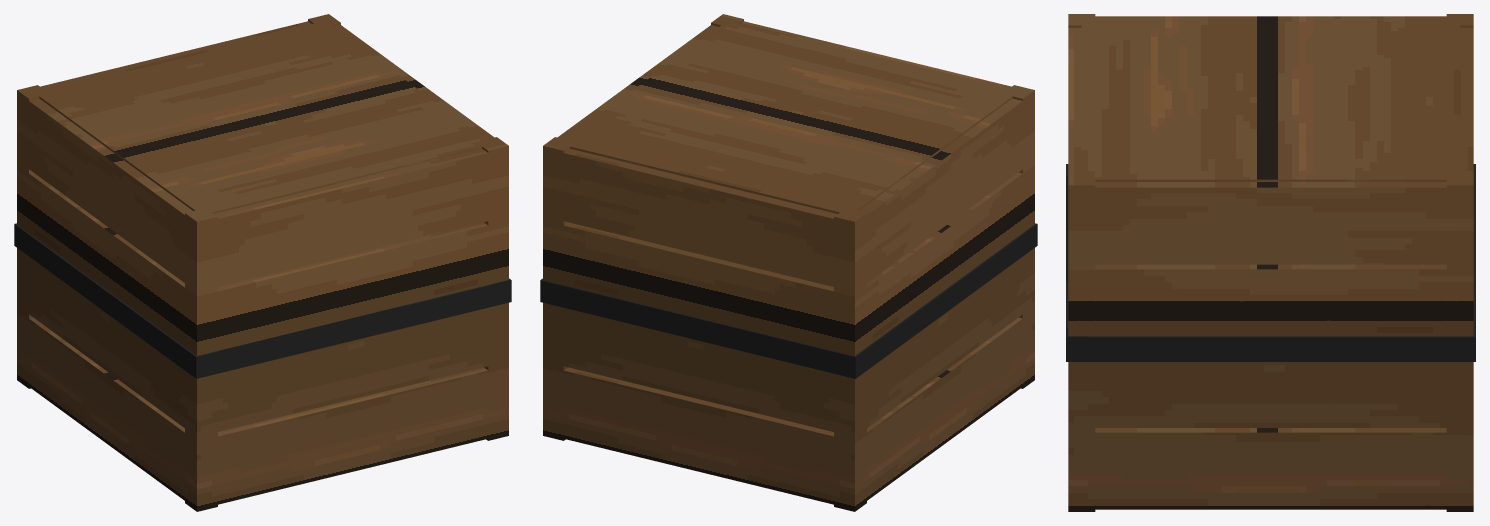
File: SM_Crate.glb
3 views of the same model, side by side, from view 1: azimuth 30°, elevation 25°; view 2: azimuth 150°, elevation 25°; view 3: azimuth 270°, elevation 25° (orthographic). The views are drawn at different scales.
Visible parts, largest first — view 1: SM_Crate; view 2: SM_Crate; view 3: SM_Crate.
Boxes of the visible parts, x1,y1,x2,y2 form: SM_Crate: [14, 14, 511, 511]; SM_Crate: [540, 14, 1037, 511]; SM_Crate: [1066, 14, 1475, 511].
Size of the model in its own units: 0.91 by 0.8 by 0.91.
Materials: 2 (2 with a texture image).
